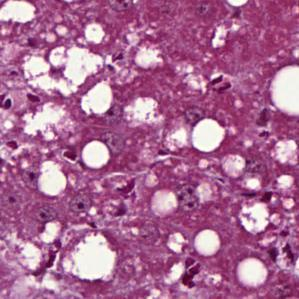ballooning: (18, 215, 120, 287), (21, 44, 107, 99)
